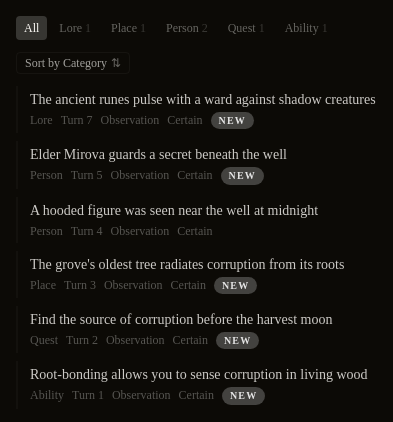
Test: AC-2: Category filtering › filters to only Person entries when Person tab clicked
The image size is (393, 422).
Click the tab "Person 2".
click(187, 28)  # box [158,16,216,40]
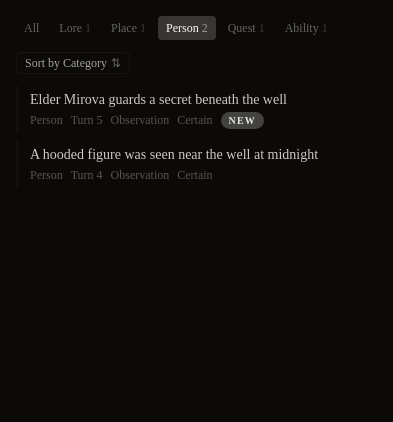
Expected: the text "Elder Mirova guards a secret beneath the well" is shown, [30,92,287,107]
Result: the text "ancient runes" is gone
